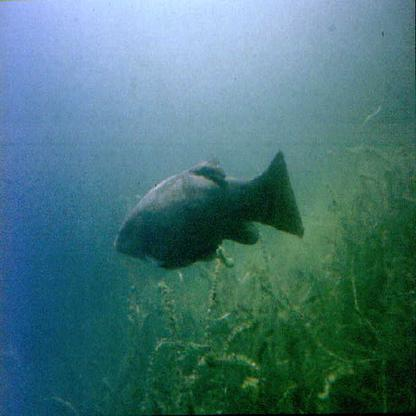fish: (112, 146, 307, 273)
